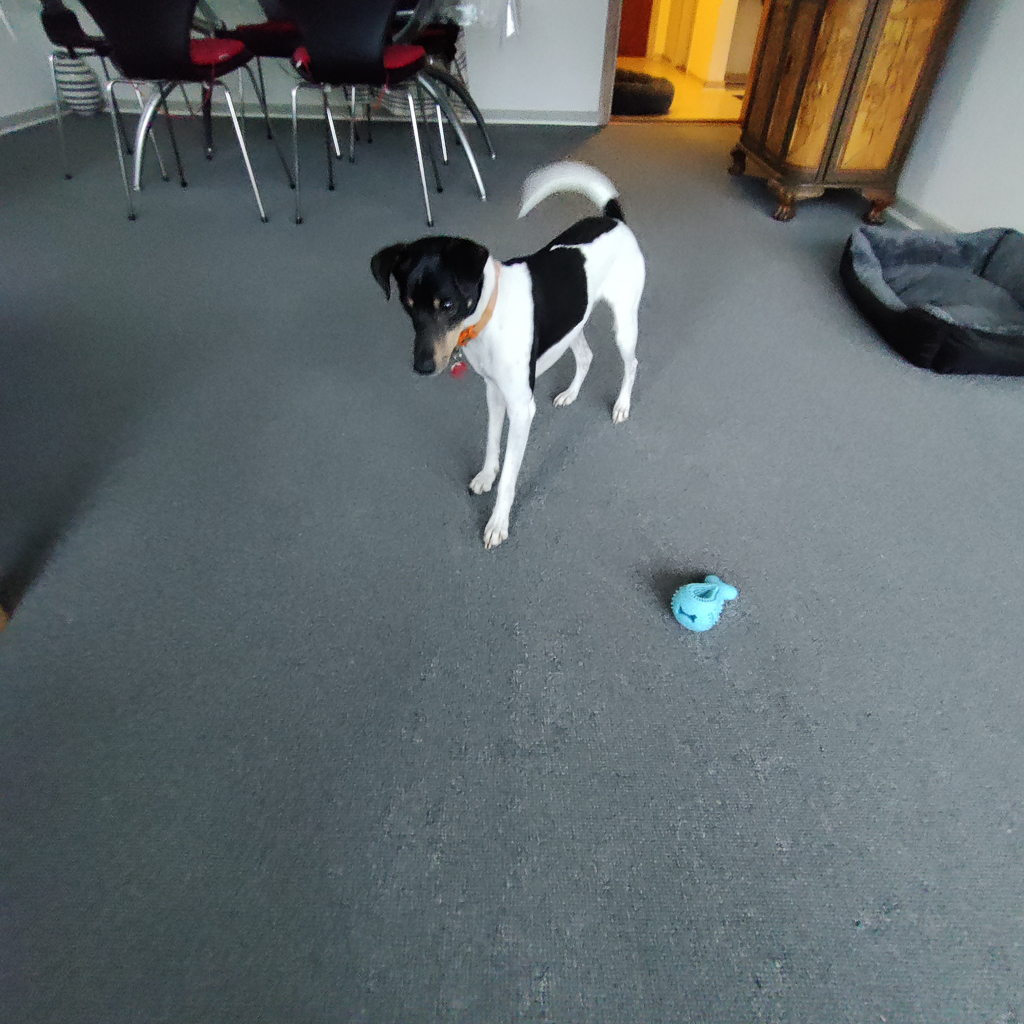Dog: (350, 145, 686, 578)
